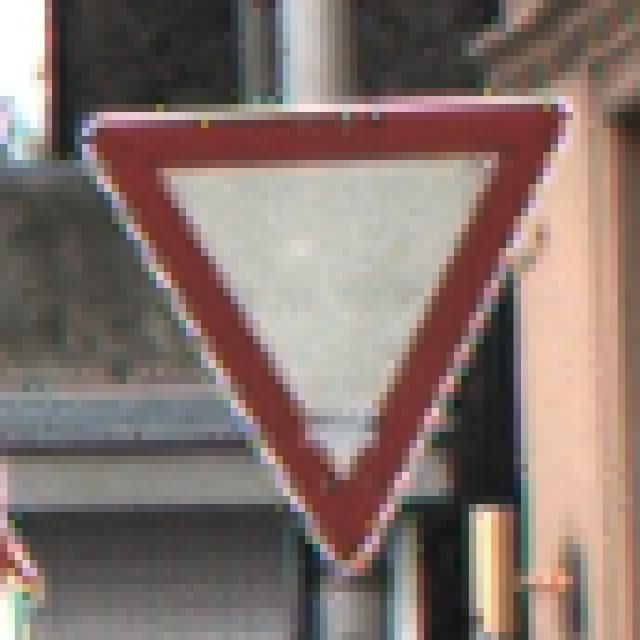Give Way: (60, 65, 589, 585)
